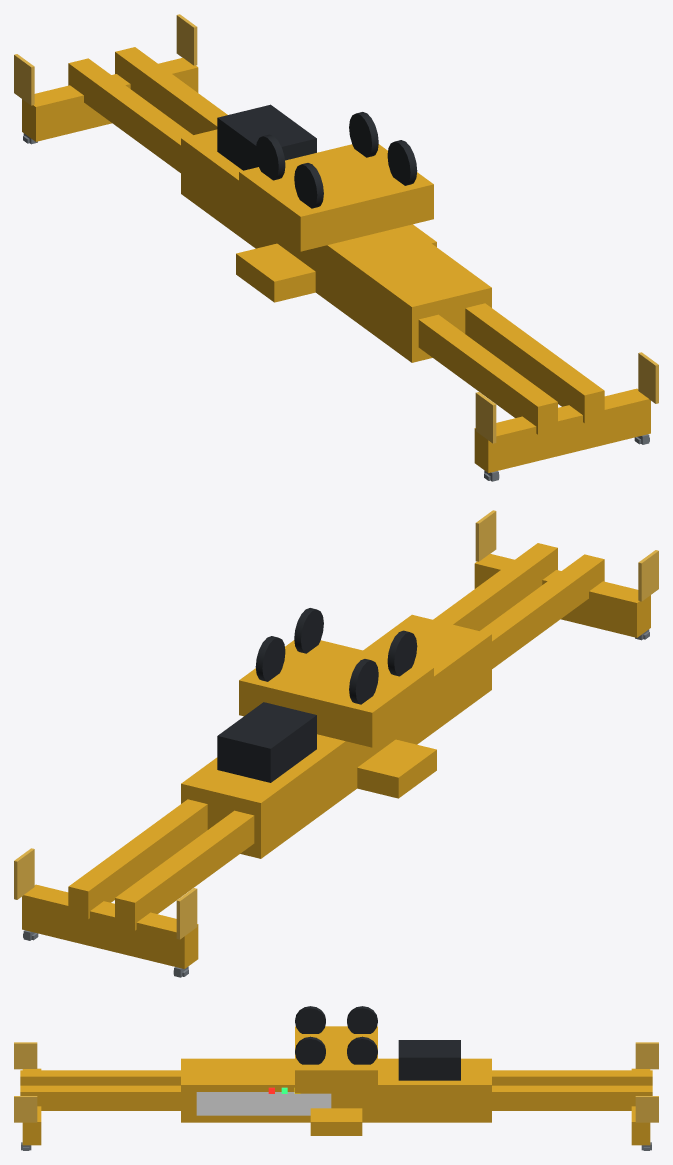
The model's file is equipment--craneSpreader.glb.
3 renders of one model, top to bottom at view 1: azimuth 30°, elevation 25°; view 2: azimuth 150°, elevation 25°; view 3: azimuth 270°, elevation 25°, orthographic. The views are drawn at different scales.
Parts seen in each view (by area): view 1: craneSpreader:shell, telescopeFore, headblock, telescopeAft, flipperFR, flipperAL, flipperAR, flipperFL; view 2: craneSpreader:shell, telescopeAft, headblock, telescopeFore, flipperAR, flipperFL, flipperFR, flipperAL; view 3: craneSpreader:shell, telescopeFore, telescopeAft, headblock, flipperFR, flipperAR, flipperFL, flipperAL.
Boxes of the visible parts, box(x1,y1,x2,y2) form: craneSpreader:shell: box(181, 104, 491, 362); telescopeFore: box(418, 303, 650, 472); headblock: box(239, 112, 433, 251); telescopeAft: box(22, 47, 227, 172); flipperFR: box(475, 392, 496, 443); flipperAL: box(176, 14, 197, 65); flipperAR: box(14, 54, 34, 105); flipperFL: box(638, 352, 658, 403); craneSpreader:shell: box(181, 614, 491, 858); telescopeAft: box(22, 799, 254, 968); headblock: box(239, 608, 433, 747); telescopeFore: box(433, 543, 650, 668); flipperAR: box(176, 888, 197, 939); flipperFL: box(475, 510, 496, 561); flipperFR: box(638, 550, 658, 601); flipperAL: box(14, 848, 34, 899); craneSpreader:shell: box(181, 1040, 491, 1135); telescopeFore: box(20, 1068, 180, 1145); telescopeAft: box(492, 1068, 652, 1145); headblock: box(295, 1006, 377, 1093); flipperFR: box(14, 1042, 37, 1069); flipperAR: box(635, 1042, 658, 1069); flipperFL: box(14, 1096, 37, 1122); flipperAL: box(635, 1096, 658, 1122).
Size of the model in its own units: 2.49 by 2.17 by 12.45.
